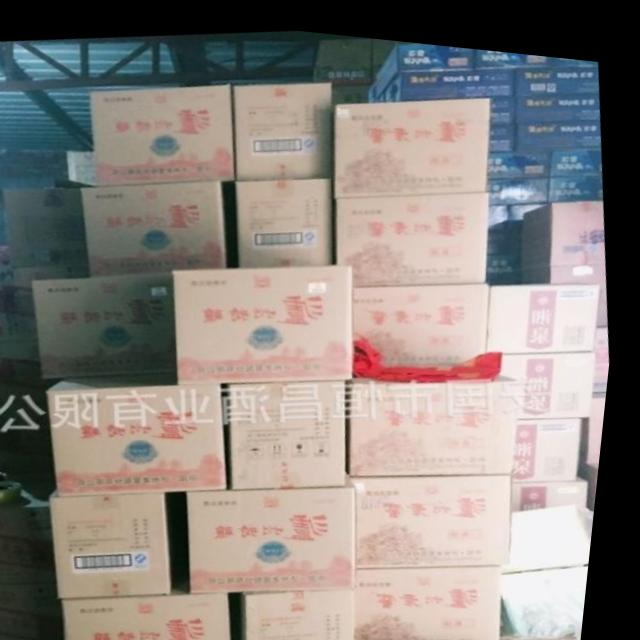box: (177, 256, 360, 381), (57, 369, 236, 494), (197, 480, 366, 589), (354, 365, 529, 467), (34, 268, 186, 377), (338, 86, 492, 191), (90, 79, 240, 185), (358, 465, 520, 558), (336, 183, 491, 279), (85, 177, 231, 276), (62, 487, 183, 598), (230, 375, 353, 483), (364, 557, 517, 640), (361, 271, 494, 359), (233, 76, 336, 175), (76, 586, 245, 640), (239, 173, 340, 263), (492, 271, 602, 342), (0, 260, 94, 341), (6, 185, 92, 266), (366, 34, 474, 95), (506, 339, 602, 405), (255, 583, 366, 640), (512, 554, 599, 625), (515, 493, 601, 562), (525, 250, 614, 316), (525, 188, 609, 256), (368, 60, 518, 96), (522, 404, 596, 471), (0, 338, 69, 399), (520, 461, 602, 501), (516, 106, 603, 138), (317, 30, 373, 76), (0, 605, 78, 638), (517, 79, 602, 108), (517, 55, 599, 85), (0, 501, 65, 538), (0, 532, 66, 564), (0, 584, 76, 610), (491, 138, 553, 169), (472, 39, 555, 61), (491, 166, 550, 195), (550, 160, 605, 191), (0, 559, 66, 584), (552, 136, 605, 162), (596, 383, 613, 449), (590, 448, 608, 500), (491, 111, 518, 141), (491, 86, 518, 113), (554, 45, 599, 58)
